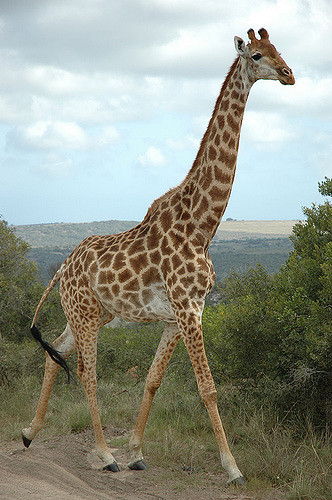giraffe: (26, 22, 296, 464)
